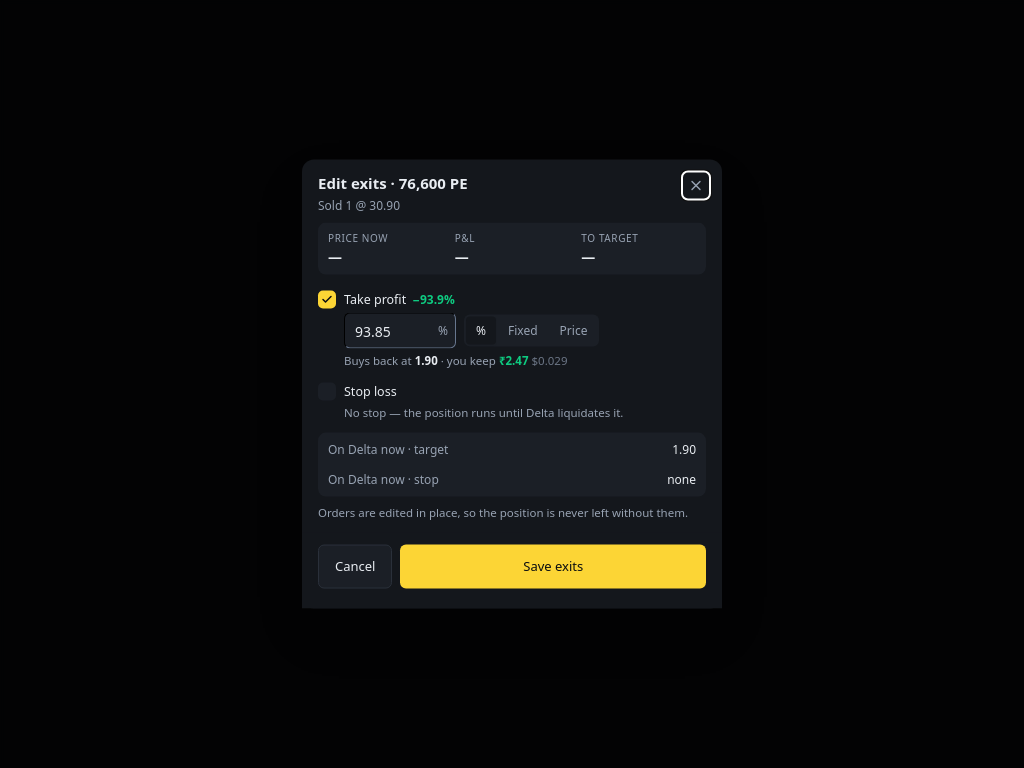
saving › opening on a live target fills the Fixed box with the same level in points
What coordinates should you click on to do the following:
click the radio button labelled "Fixed"
I would click on:
 (523, 331)
Its box is x1=498 y1=317 x2=548 y2=345.
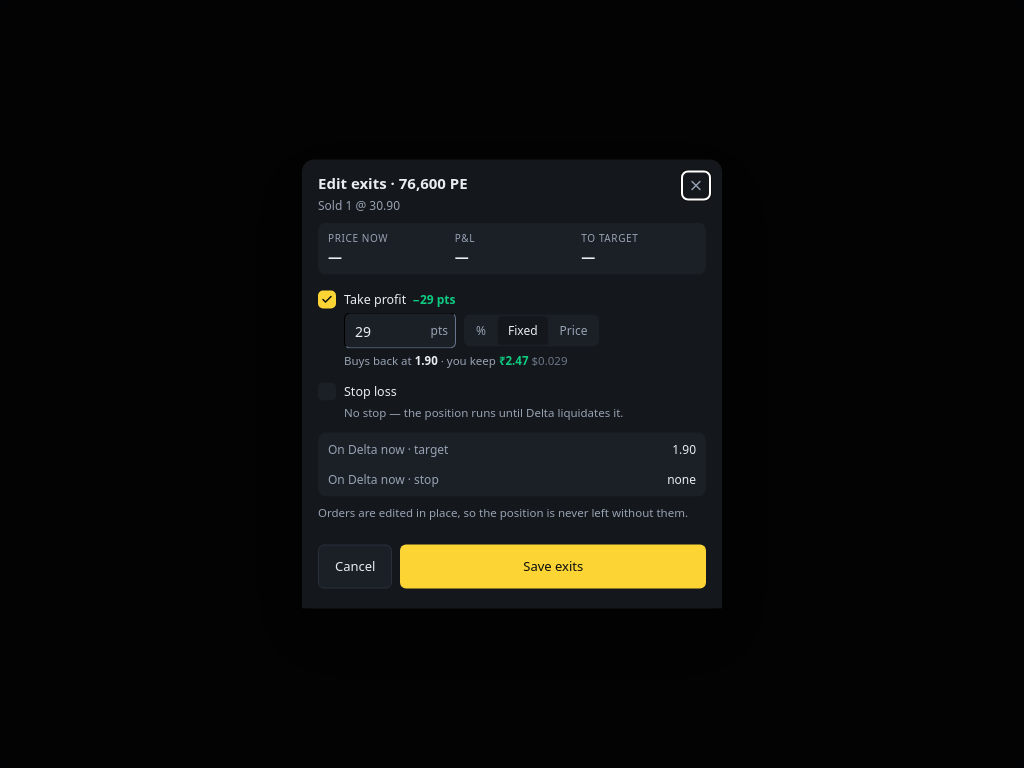
Now the field named "target points" holds "29", box x1=344 y1=313 x2=456 y2=349
